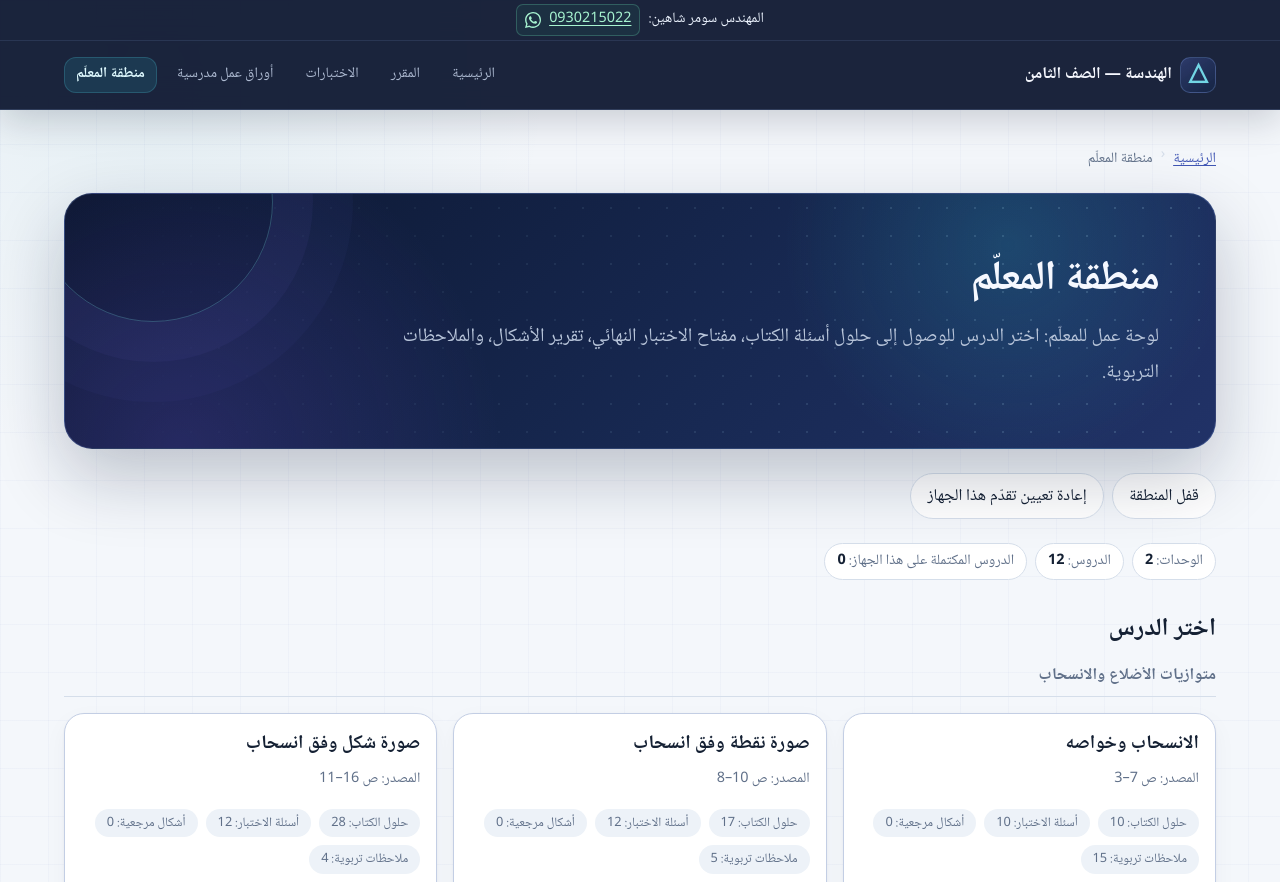
teacher area — lesson picker › locks the area again from the picker
Click the button "قفل المنطقة": (1164, 496) x1=1112 y1=473 x2=1216 y2=519
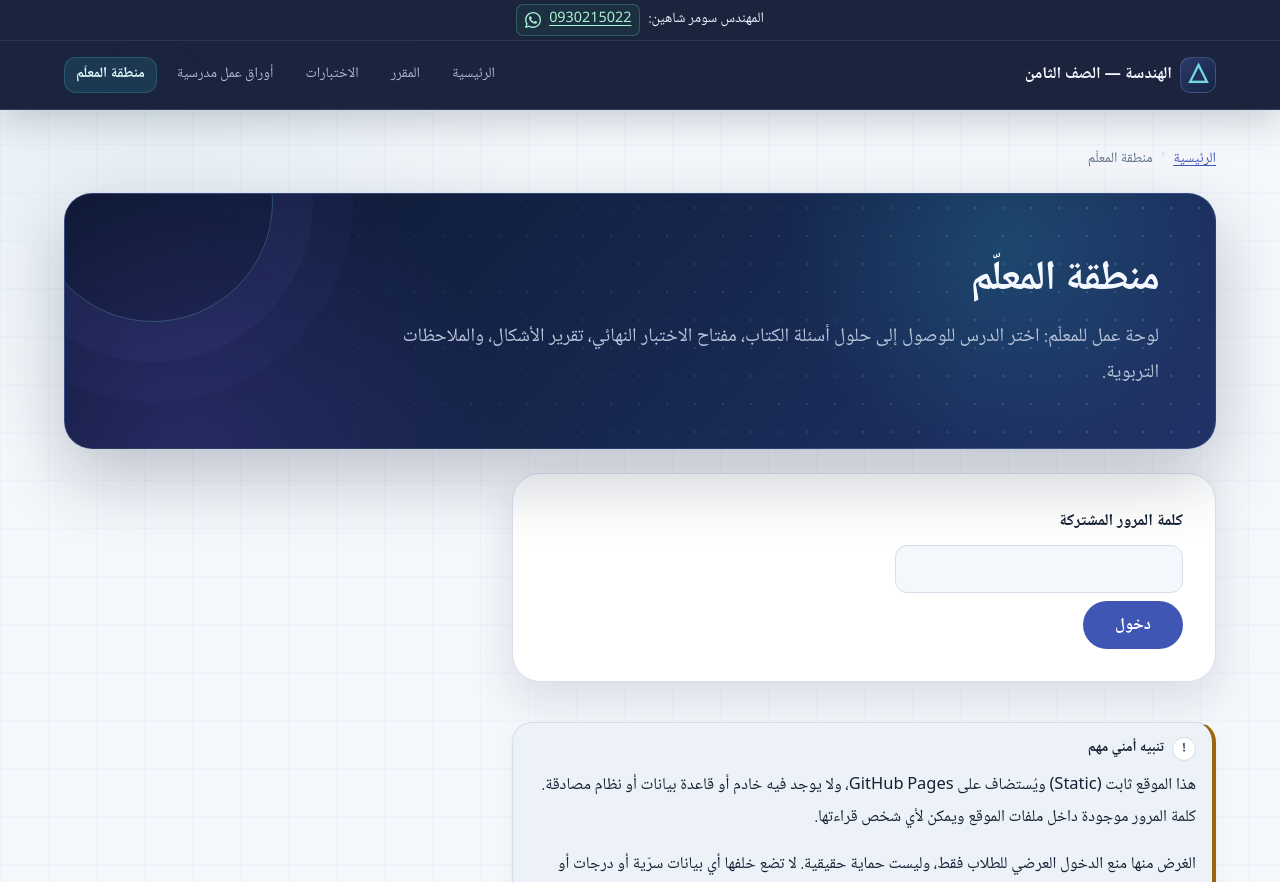
Expected: the password field labelled "كلمة المرور المشتركة" is shown, x1=895 y1=545 x2=1183 y2=593
